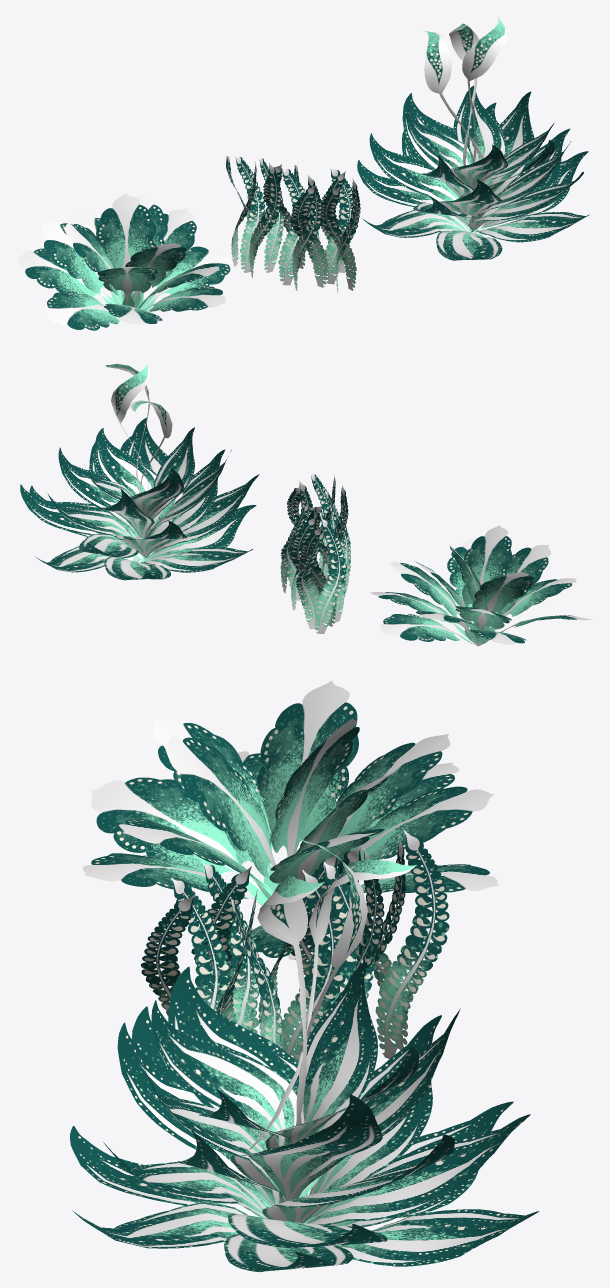
Rendered from setPlantExoticFantasy_edit_for_FBX.fbx.
3 renders of one model, top to bottom at view 1: azimuth 30°, elevation 25°; view 2: azimuth 150°, elevation 25°; view 3: azimuth 270°, elevation 25°, orthographic. The views are drawn at different scales.
Parts seen in each view (by area): view 1: plants03, plants01, plants02; view 2: plants03, plants01, plants02; view 3: plants03, plants01, plants02.
Boxes of the visible parts, x1,y1,x2,y2 form: plants03: (357,17,589,260); plants01: (17,193,231,330); plants02: (226,155,360,292); plants03: (20,363,259,580); plants01: (370,525,590,646); plants02: (280,474,350,633); plants03: (70,838,539,1272); plants01: (82,680,498,959); plants02: (141,830,449,1061).
Size of the model in its own units: 6816 by 2474 by 2666.
